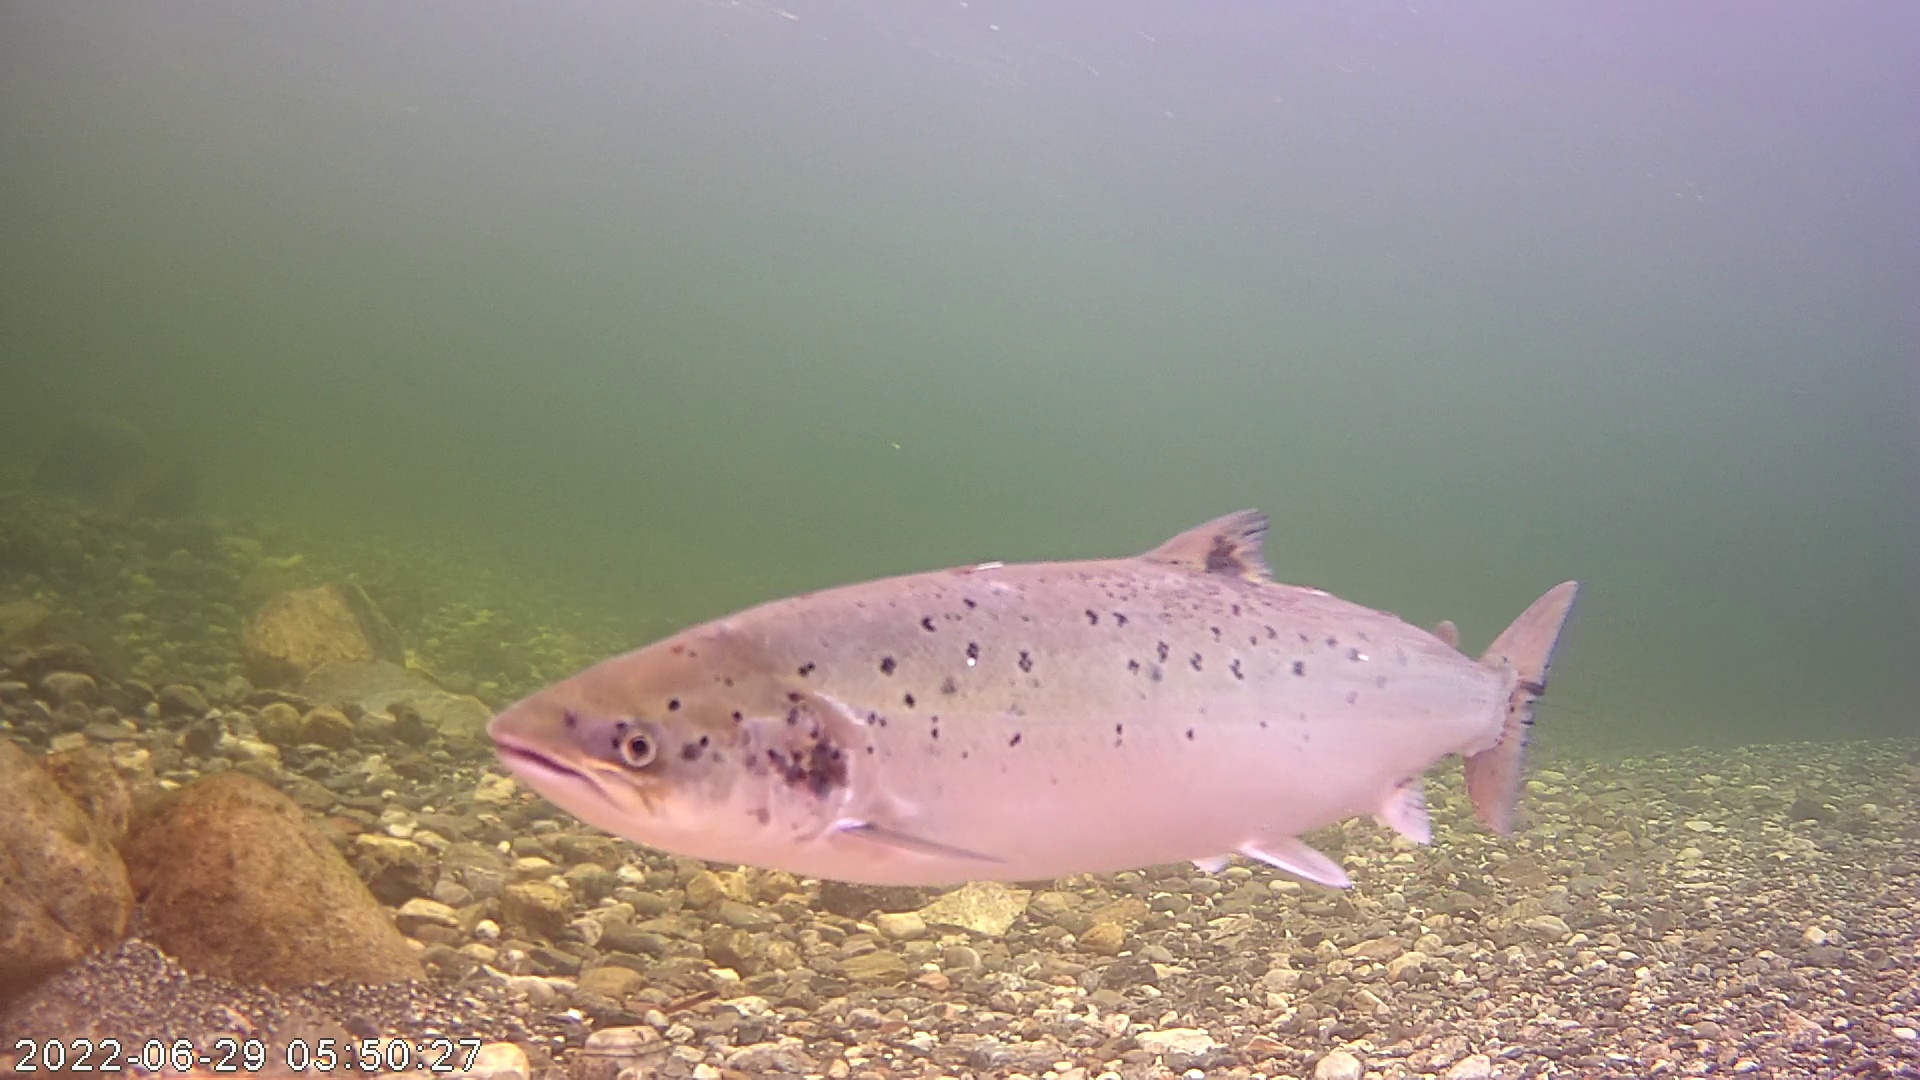salmon: (534, 409, 1578, 906)
